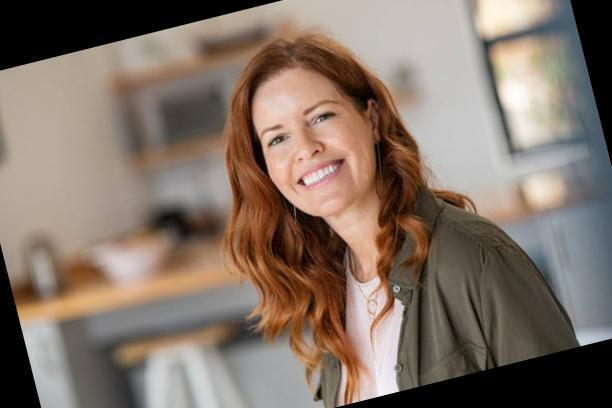Sober: (258, 87, 368, 212)
